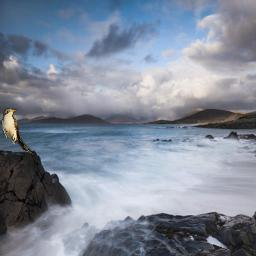Cuckoo: (1, 108, 34, 155)
